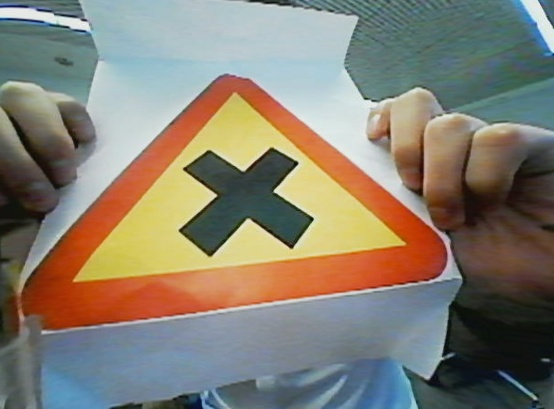junction: (22, 64, 452, 329)
